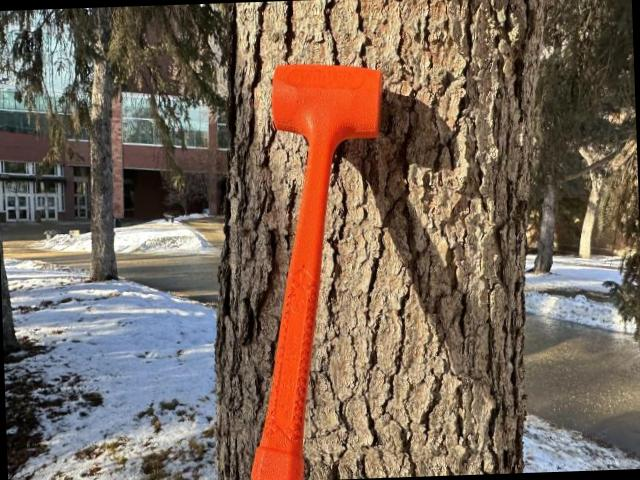hammer: (233, 59, 393, 480)
